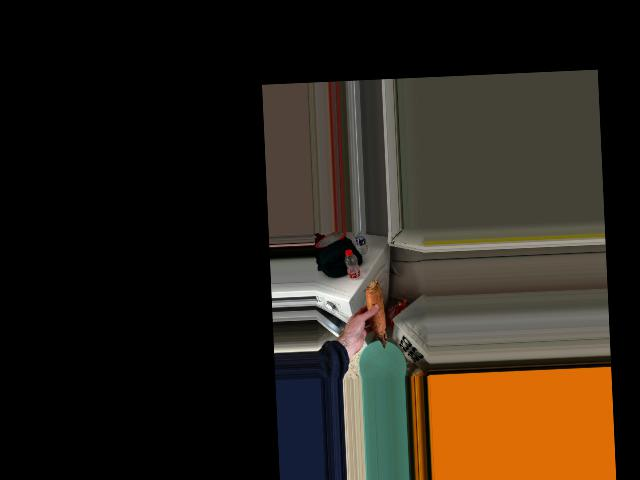sweet_potato: (362, 277, 384, 344)
